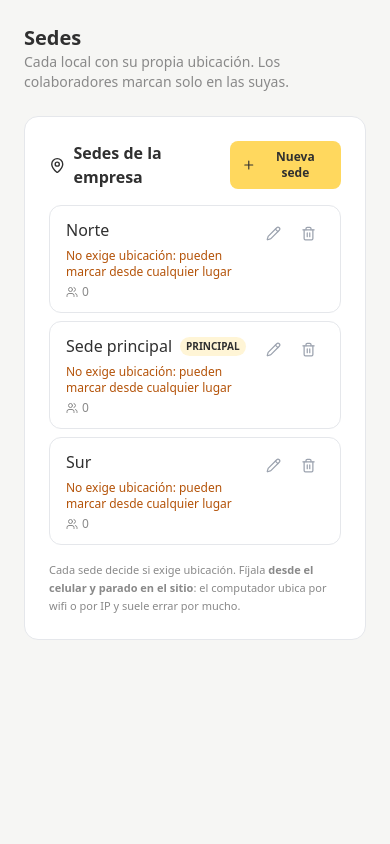
Scenario: TabSedes sin el permiso de GPS › con el permiso de GPS, la ubicación se puede poner
The image size is (390, 844).
What coordinates should you click on to do the following:
click the button "Nueva sede"
I would click on:
 (286, 165)
Its box is [230,141,341,189].
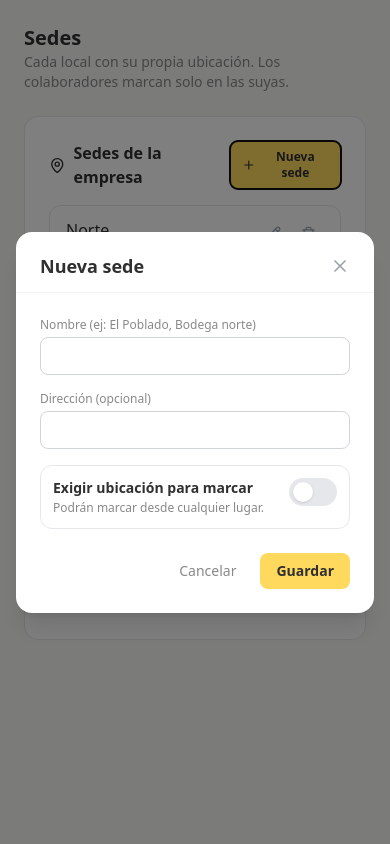
What coordinates should you click on to do the following:
click the switch named "Exigir ubicación para marcar"
I would click on:
 (313, 492)
Its box is [289,478,337,506].
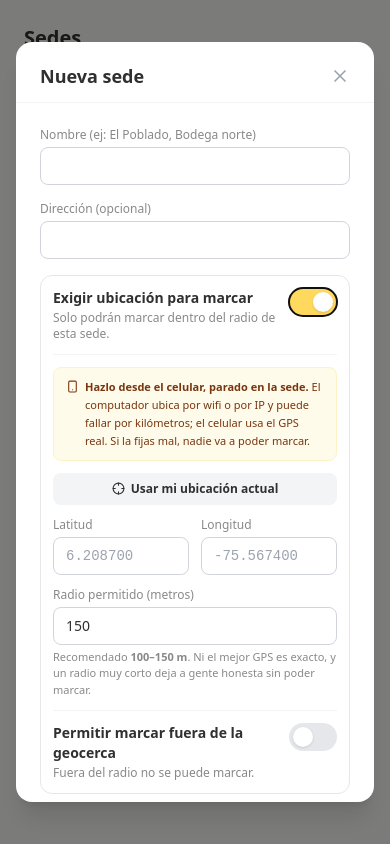
Expected: the field with placeholder "6.208700" is enabled, [53,537,189,575]
